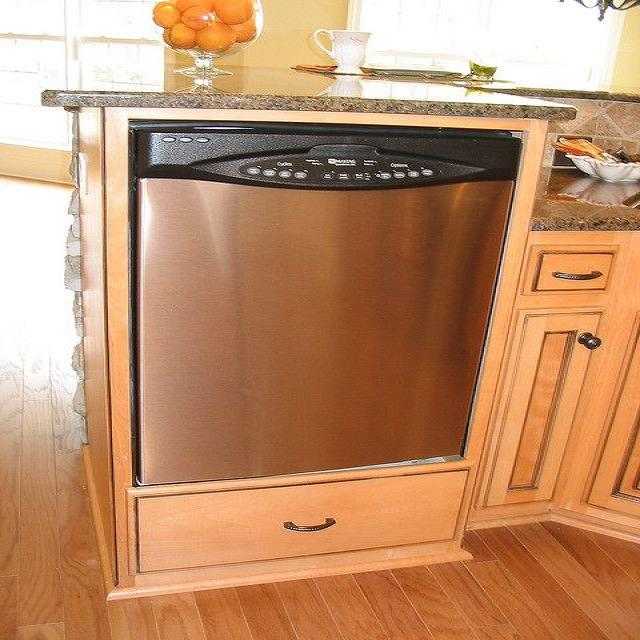dishwasher: (100, 109, 537, 492)
